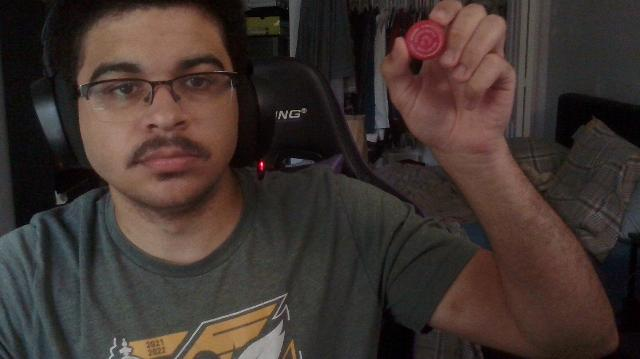cap: (406, 20, 446, 60)
